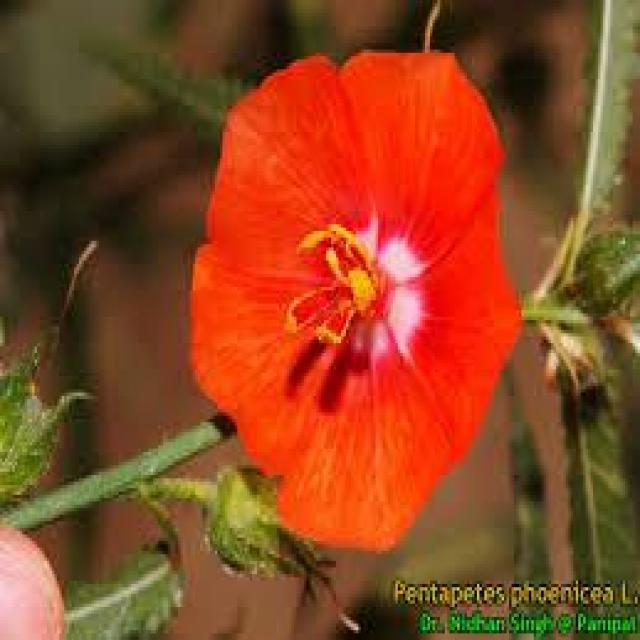organic waste: (185, 45, 509, 549)
